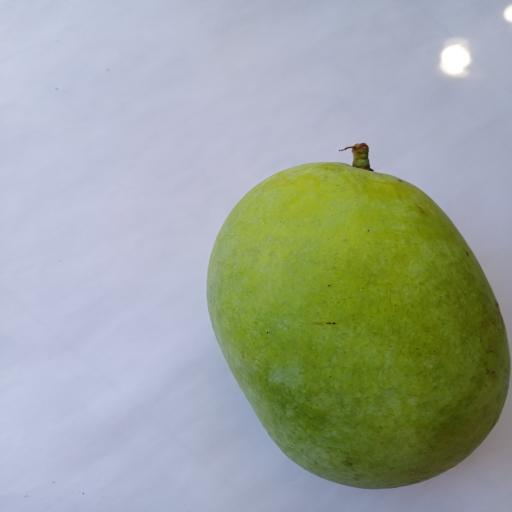mango-unripe: (185, 137, 512, 509)
